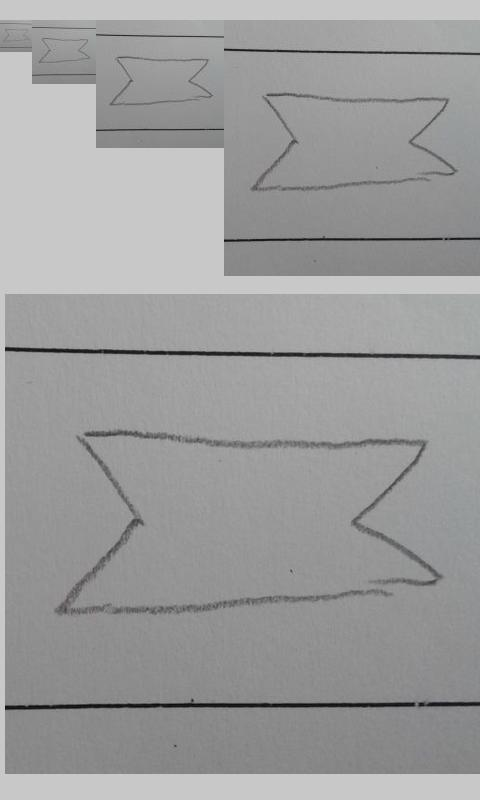edit_text: (58, 429, 442, 619), (252, 91, 458, 192), (109, 55, 214, 106), (38, 37, 91, 64), (3, 28, 30, 42)
